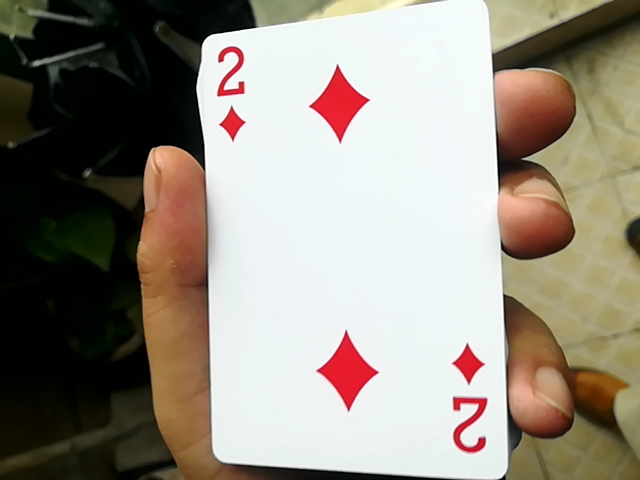fk 2: (187, 0, 500, 477)
